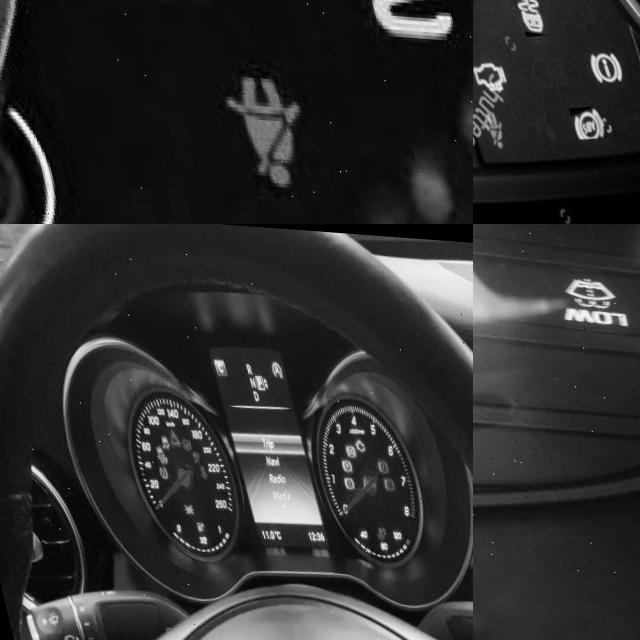Seat Belt: (199, 70, 304, 189)
Washer Fluid: (548, 271, 608, 307)
